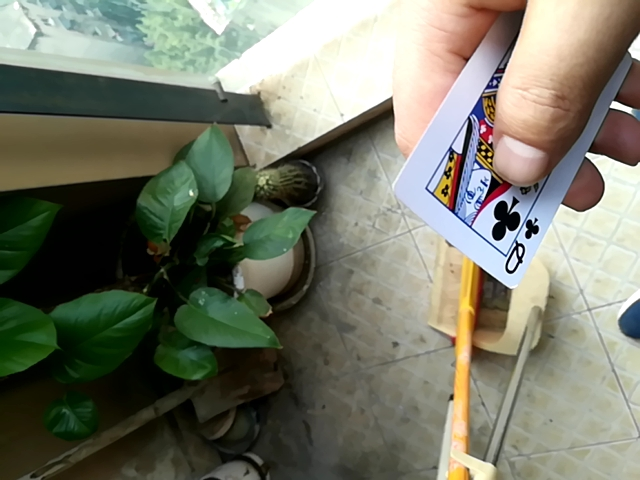mh q: (386, 1, 628, 314)
